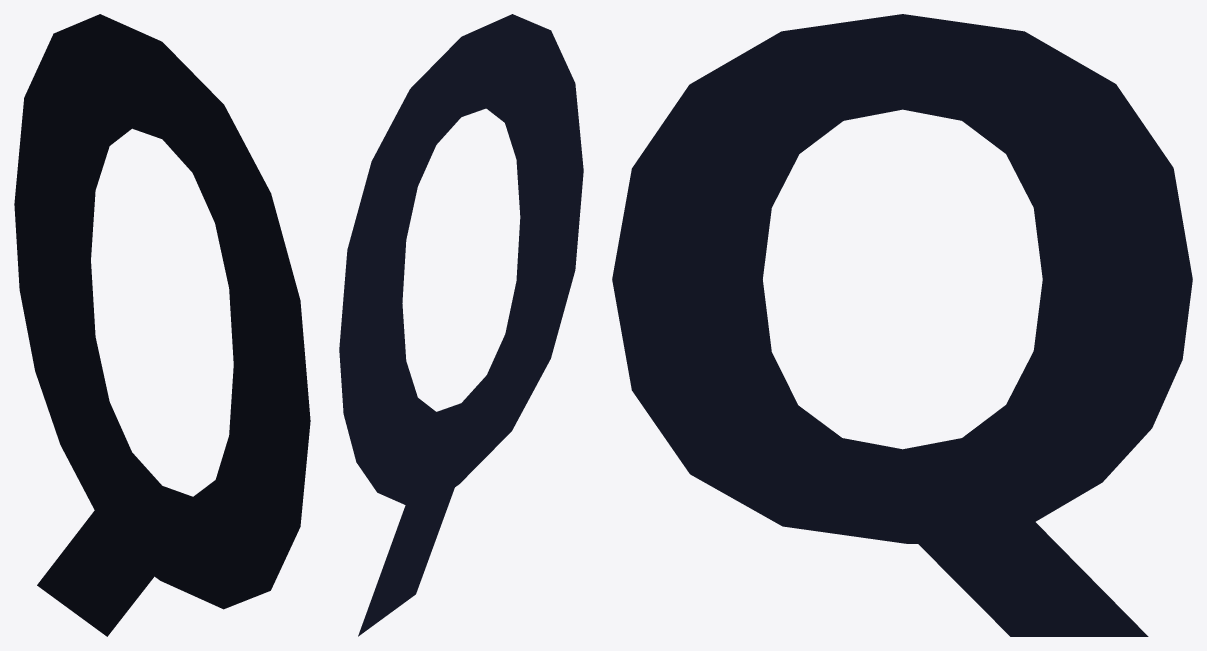
File: lat_glyph_Q.dae
The picture shows the model from 3 angles, left to right: view 1: azimuth 30°, elevation 25°; view 2: azimuth 150°, elevation 25°; view 3: azimuth 270°, elevation 25°; orthographic projection. The views are drawn at different scales.
Visible parts, largest first — view 1: lat_glyph_Q8; view 2: lat_glyph_Q8; view 3: lat_glyph_Q8.
Part boxes in pixels (x1,y1,x2,y2): lat_glyph_Q8: (14, 14, 310, 636); lat_glyph_Q8: (339, 14, 583, 636); lat_glyph_Q8: (612, 14, 1192, 636).
Size of the model in its own units: 0 by 1.03 by 1.22.
